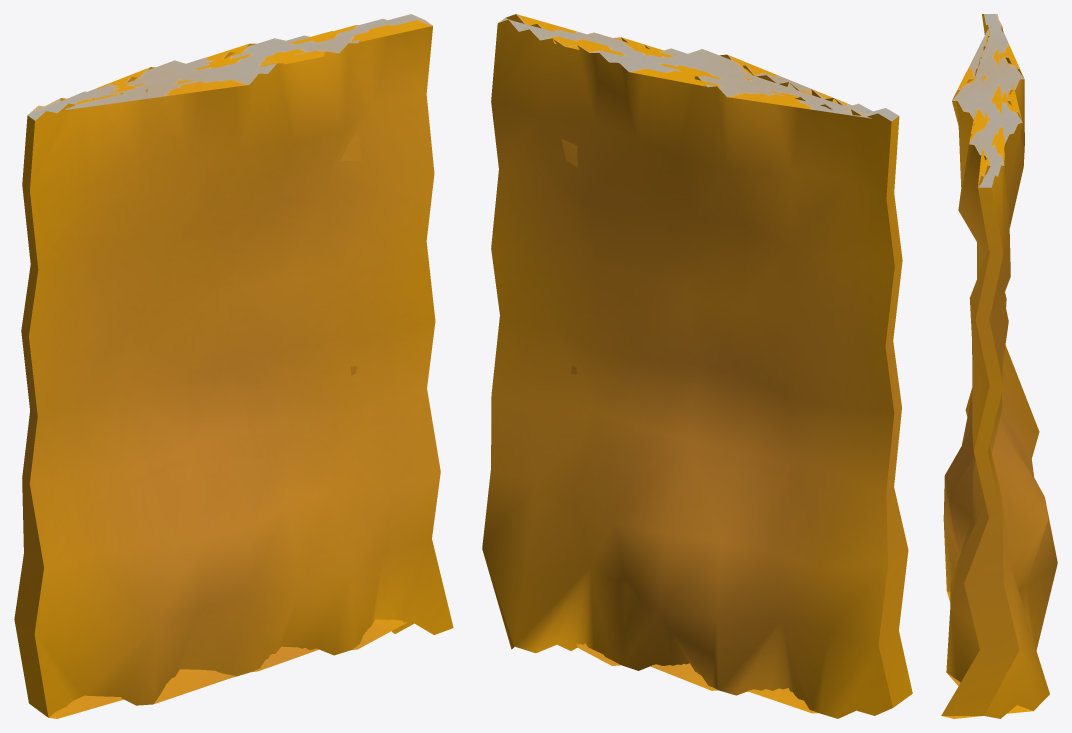
The model's file is sweets_bag.fbx.
3 renders of one model, left to right at view 1: azimuth 30°, elevation 25°; view 2: azimuth 150°, elevation 25°; view 3: azimuth 270°, elevation 25°, orthographic. The views are drawn at different scales.
Visible parts, largest first — view 1: pCube1; view 2: pCube1; view 3: pCube1.
Part boxes in pixels (x1,y1,x2,y2): pCube1: [14, 14, 453, 718]; pCube1: [482, 14, 912, 718]; pCube1: [941, 14, 1057, 718].
Bounding box in the file's own units: 0.7058 × 1.04 × 0.2002.
Materials: 1 (1 with a texture image).
